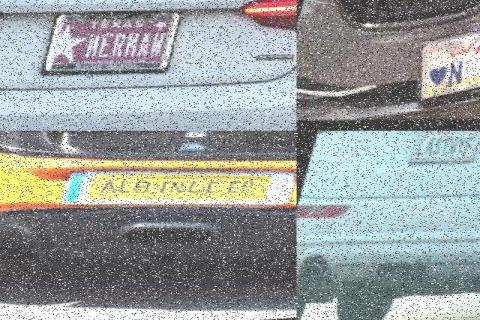LicensePlate: (44, 15, 186, 77), (65, 171, 295, 209), (427, 37, 478, 104), (413, 131, 480, 168)
